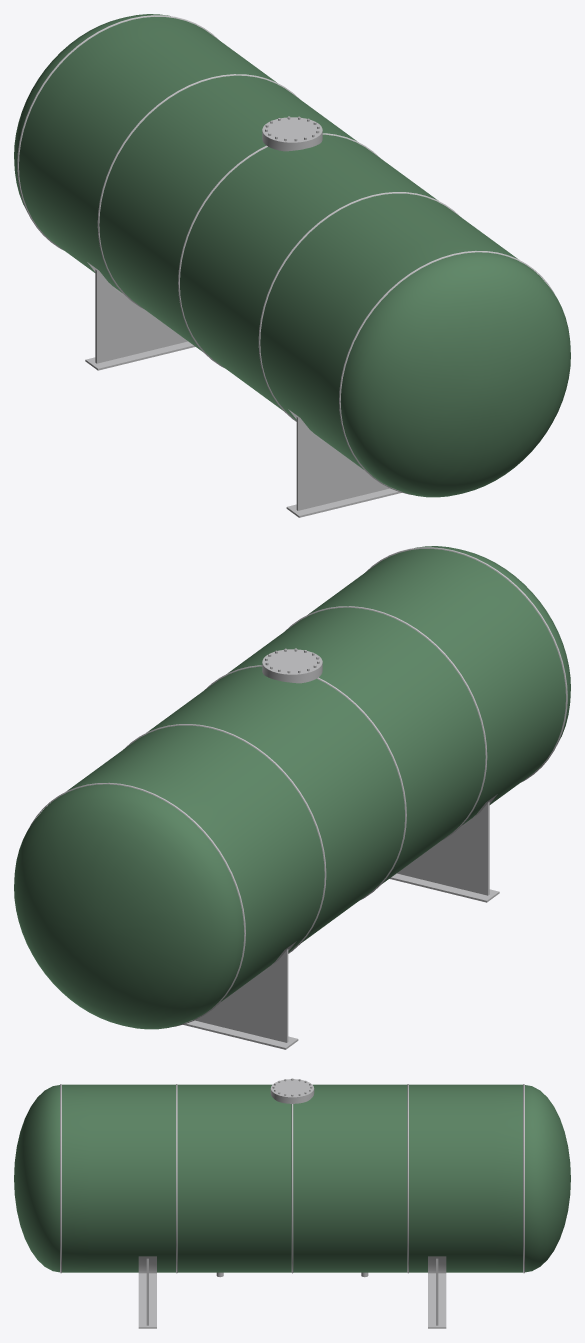
The model's file is FuelTank.glb.
The picture shows the model from 3 angles, top to bottom: view 1: azimuth 30°, elevation 25°; view 2: azimuth 150°, elevation 25°; view 3: azimuth 270°, elevation 25°; orthographic projection. The views are drawn at different scales.
Parts seen in each view (by area): view 1: FuelTank.Shell, FuelTank.Saddles, FuelTank.Fittings; view 2: FuelTank.Shell, FuelTank.Saddles, FuelTank.Fittings; view 3: FuelTank.Shell, FuelTank.Fittings, FuelTank.Saddles.
Boxes of the visible parts, x1,y1,x2,y2 form: FuelTank.Shell: (14,14,570,497); FuelTank.Saddles: (85,262,401,517); FuelTank.Fittings: (17,15,555,494); FuelTank.Shell: (14,546,570,1029); FuelTank.Saddles: (183,794,499,1049); FuelTank.Fittings: (29,547,567,1026); FuelTank.Shell: (14,1084,570,1272); FuelTank.Fittings: (60,1078,524,1277); FuelTank.Saddles: (138,1256,446,1328).
Size of what is drawn, in the model's own units: 2.62 by 3.15 by 7.7.
